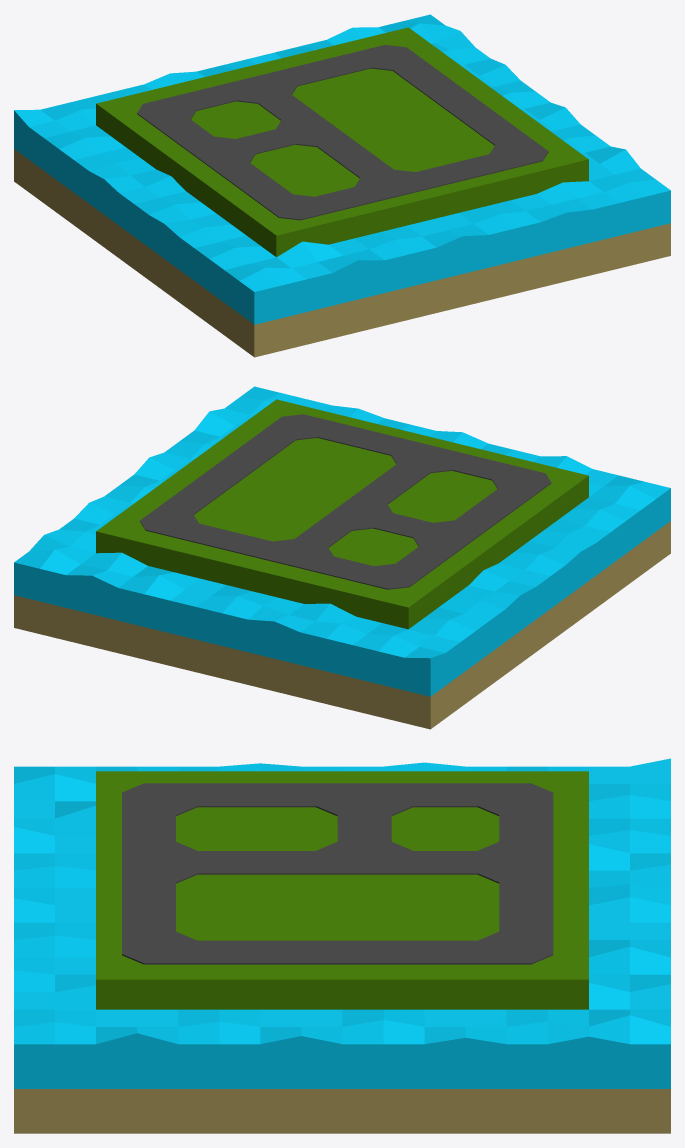
Rendered from ground_water.glb.
3 renders of one model, top to bottom at view 1: azimuth 30°, elevation 25°; view 2: azimuth 150°, elevation 25°; view 3: azimuth 270°, elevation 25°, orthographic. The views are drawn at different scales.
Visible parts, largest first — view 1: water, city_ground, road, main_ground; view 2: water, city_ground, road, main_ground; view 3: water, city_ground, road, main_ground.
Boxes of the visible parts, box(x1,y1,x2,y2) form: water: box(14, 14, 670, 324); city_ground: box(96, 27, 588, 257); road: box(137, 45, 548, 220); main_ground: box(14, 149, 670, 357); water: box(14, 386, 670, 696); city_ground: box(96, 399, 588, 629); road: box(140, 414, 551, 589); main_ground: box(14, 521, 670, 729); water: box(14, 758, 670, 1088); city_ground: box(96, 771, 588, 1009); road: box(122, 783, 553, 964); main_ground: box(14, 1089, 670, 1133).
Bounding box in the file's own units: 4 × 0.8092 × 4.
